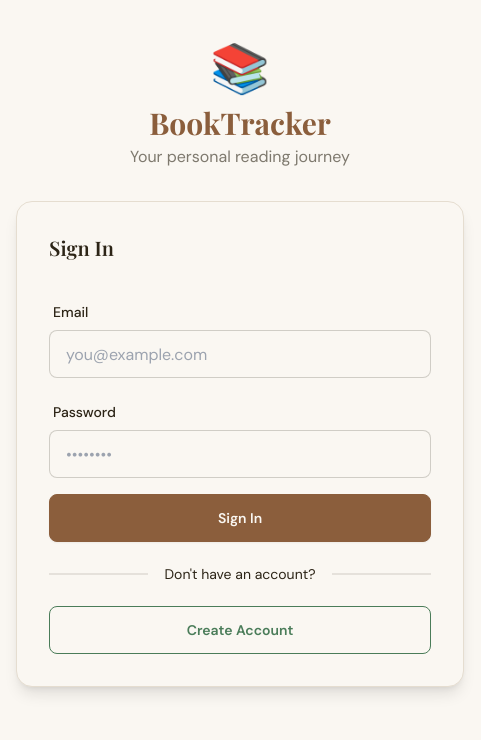
Test: LoginPage Component Unit Tests › Input Validation › should display an error if only email is provided and password is empty
In the field named "Email Address": (240, 354) [49,330,431,378], type "user@burch.edu"
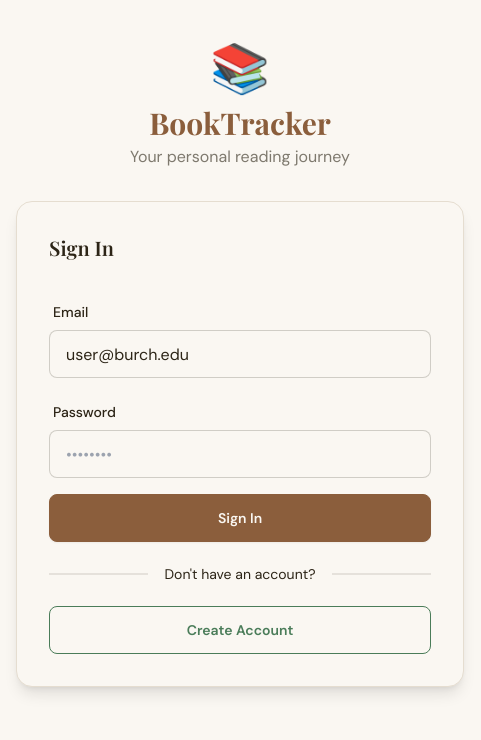
Click the button "Sign In": (240, 518) [49,494,431,542]
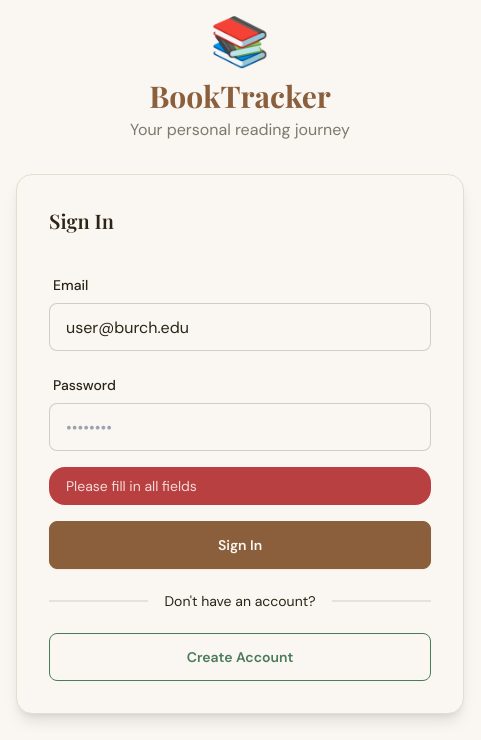
Now the message reads "Please fill in all fields", box [66,477,197,495]
